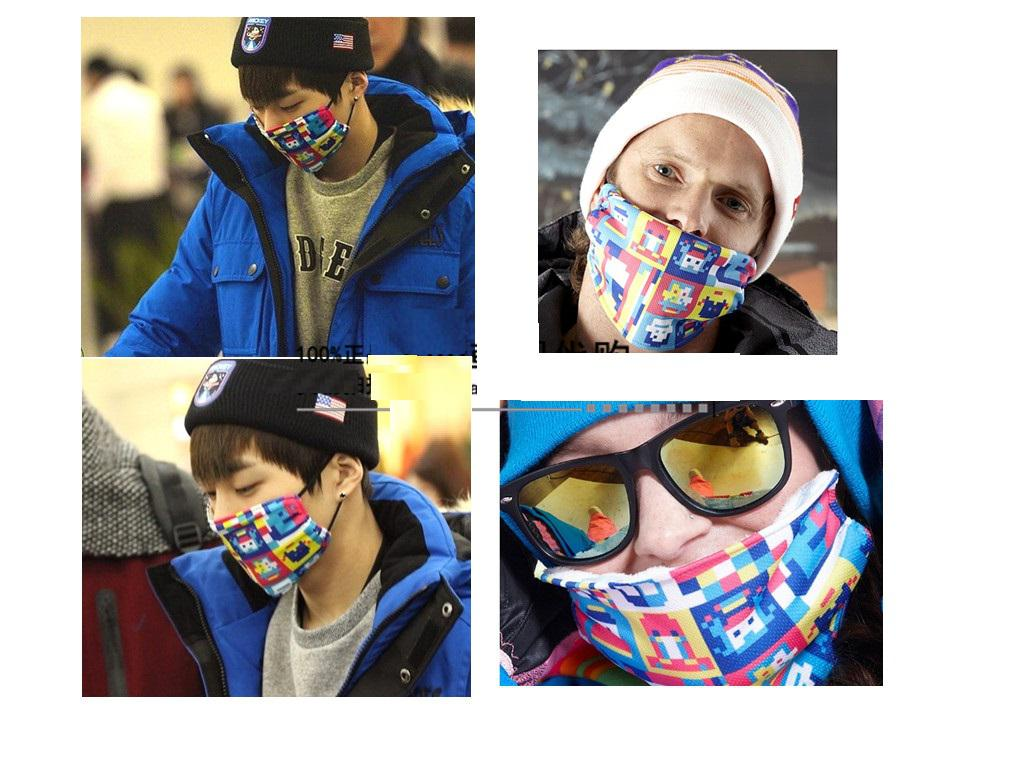OK: (200, 443, 344, 587), (251, 77, 343, 169)
WRONG: (554, 413, 833, 704), (598, 142, 763, 333)
